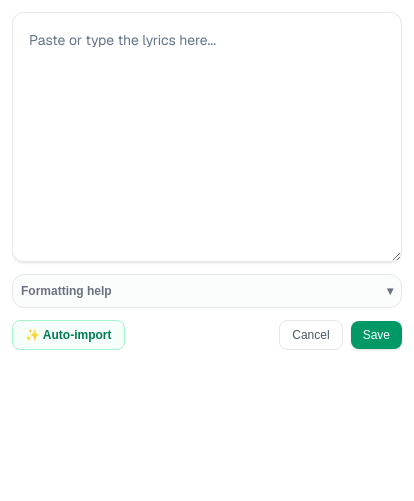
LyricsFormatGuide › LyricsFormatGuide collapses behind a Formatting help toggle on phones
Click the button "Formatting help ▾".
click(66, 291)  # box [21,283,393,299]
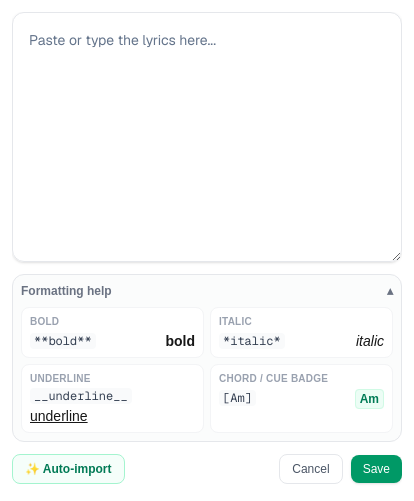
Now the button "Formatting help ▴" is expanded
Click the button "Formatting help ▴".
click(66, 291)  # box [21,283,393,299]
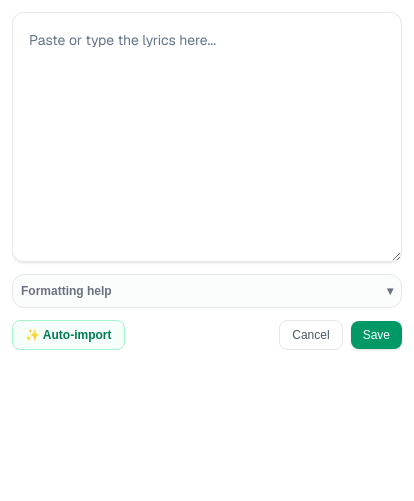
Now the button "Formatting help ▾" is collapsed, box [21,283,393,299]
